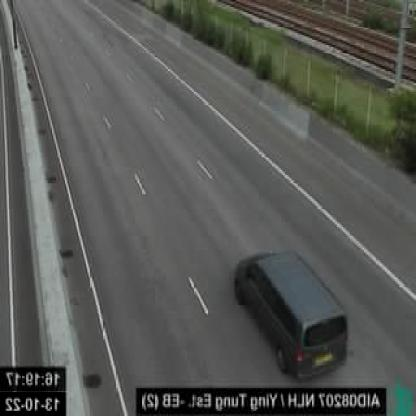Car: (234, 250, 350, 381)
